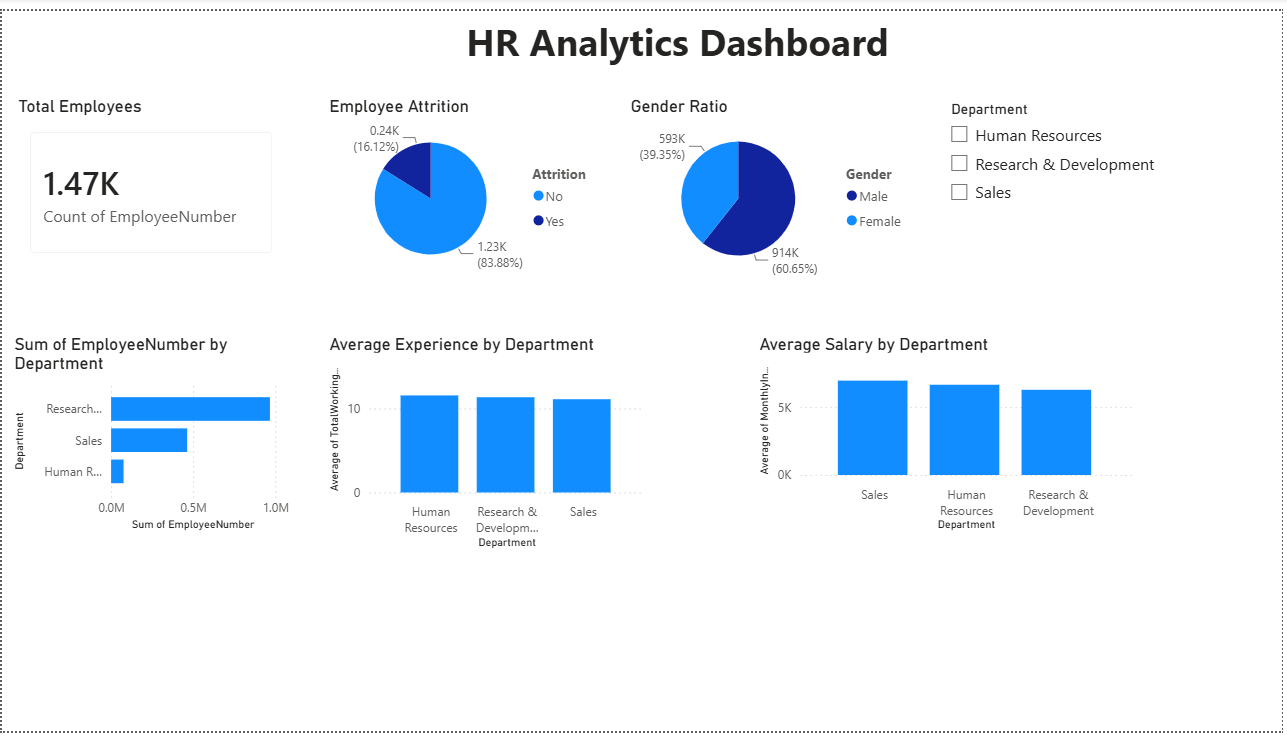

The dashboard page shown, as its layout file describes it:
{"tool":"powerbi","page":{"name":"Page 1","canvas":[1280,720],"ordinal":0},"visuals":[{"type":"cardVisual","title":"Total Employees","fields":{"Data":["CountNonNull(WA_Fn-UseC_-HR-Employee-Attriti.EmployeeNumber)"]},"box":[11.2,85,276.2,175],"z":0},{"type":"pieChart","title":"Employee Attrition","fields":{"Category":["WA_Fn-UseC_-HR-Employee-Attriti.Attrition"],"Y":["CountNonNull(WA_Fn-UseC_-HR-Employee-Attriti.Attrition)"]},"box":[322.5,85,283.8,186.2],"z":1},{"type":"clusteredBarChart","fields":{"Category":["WA_Fn-UseC_-HR-Employee-Attriti.Department"],"Y":["Sum(WA_Fn-UseC_-HR-Employee-Attriti.EmployeeNumber)"]},"box":[7.5,322.5,285,202.5],"z":2},{"type":"pieChart","title":"Gender Ratio ","fields":{"Category":["WA_Fn-UseC_-HR-Employee-Attriti.Gender"],"Y":["Sum(WA_Fn-UseC_-HR-Employee-Attriti.EmployeeNumber)"]},"box":[623.8,85,291.2,186.2],"z":3},{"type":"clusteredColumnChart","title":"Average Salary by Department","fields":{"Category":["WA_Fn-UseC_-HR-Employee-Attriti.Department"],"Y":["Avg(WA_Fn-UseC_-HR-Employee-Attriti.MonthlyIncome)"]},"box":[752.5,322.5,382.5,202.5],"z":4},{"type":"clusteredColumnChart","title":"Average Experience by Department","fields":{"Category":["WA_Fn-UseC_-HR-Employee-Attriti.Department"],"Y":["Avg(WA_Fn-UseC_-HR-Employee-Attriti.TotalWorkingYears)"]},"box":[322.5,322.5,325,220],"z":5},{"type":"slicer","fields":{"Values":["WA_Fn-UseC_-HR-Employee-Attriti.Department"]},"box":[936.2,85,325,186.2],"z":6},{"type":"textbox","box":[271.2,0,808.8,67.5],"z":7}]}

Visuals, with their boxes in screenshot pixels (x1, y1, x2, y2), scaled from the page's 1280x720 canvas onto the 1287x737 screenshot:
"Total Employees" cardVisual: bbox=[11, 87, 289, 266]
"Employee Attrition" pieChart: bbox=[324, 87, 610, 278]
clusteredBarChart - WA_Fn-UseC_-HR-Employee-Attriti.Department x Sum(WA_Fn-UseC_-HR-Employee-Attriti.EmployeeNumber): bbox=[8, 330, 294, 537]
"Gender Ratio " pieChart: bbox=[627, 87, 920, 278]
"Average Salary by Department" clusteredColumnChart: bbox=[757, 330, 1141, 537]
"Average Experience by Department" clusteredColumnChart: bbox=[324, 330, 651, 555]
slicer - WA_Fn-UseC_-HR-Employee-Attriti.Department: bbox=[941, 87, 1268, 278]
textbox: bbox=[273, 0, 1086, 69]
